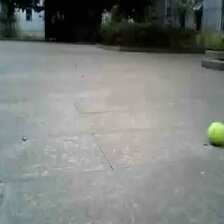tennis: (208, 121, 224, 145)
